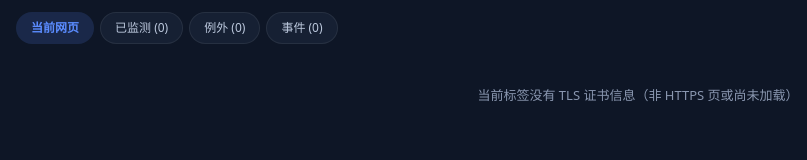
事件页签 › 空列表显示空态
The width and height of the screenshot is (807, 160).
Click the button "事件 (0)": (302,28) [266,12,338,44]
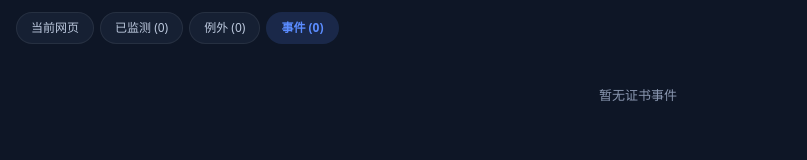
Check: the text with class "cert-empty" reads "暂无证书事件", box [599,86,677,104]
